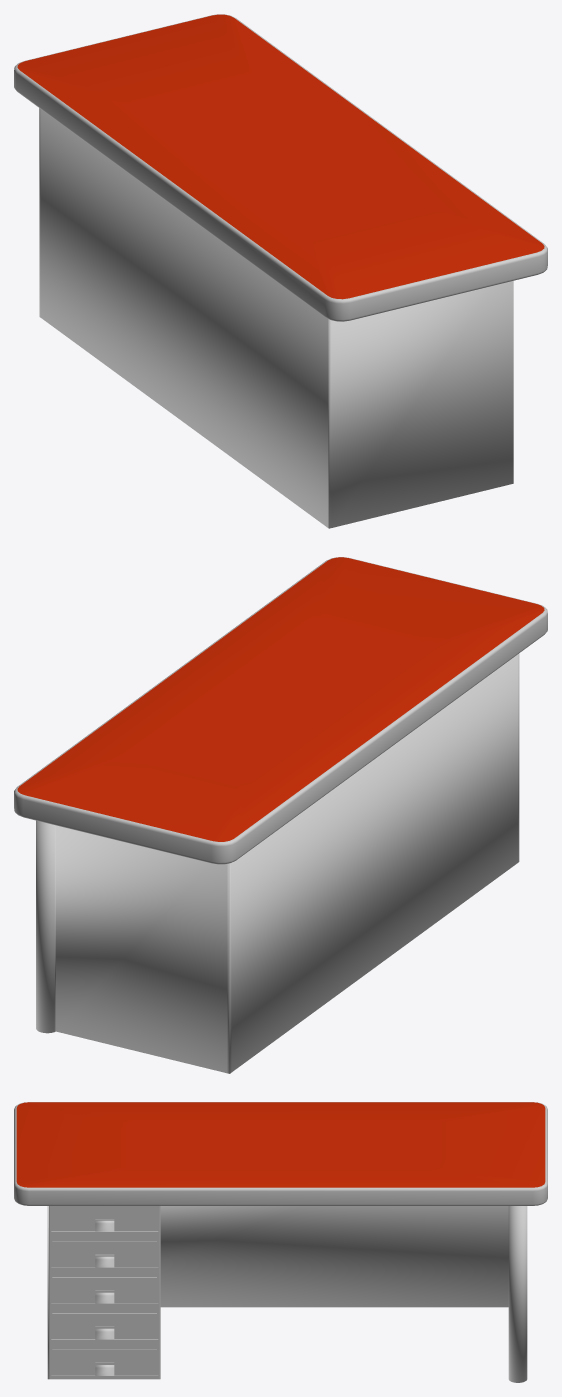
The picture shows the model from 3 angles, top to bottom: view 1: azimuth 30°, elevation 25°; view 2: azimuth 150°, elevation 25°; view 3: azimuth 270°, elevation 25°; orthographic projection. The views are drawn at different scales.
Visible parts, largest first — view 1: Cube (×3); view 2: Cube (×3); view 3: Cube (×6).
Boxes of the visible parts, <box> form: Cube (×3): <box>14,14,547,528</box>; Cube (×3): <box>14,557,547,1073</box>; Cube (×6): <box>14,1102,547,1382</box>.
Bounding box in the file's own units: 0.7778 × 0.822 × 2.
